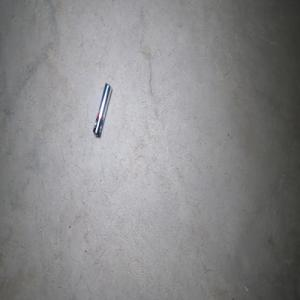Battery: (92, 82, 112, 137)
